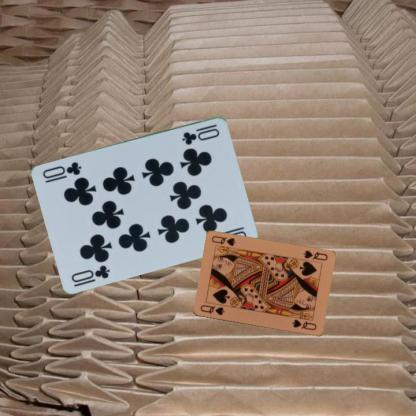10c: (179, 122, 221, 146), (69, 262, 112, 284)
Qs: (300, 248, 329, 262), (198, 302, 225, 317)
